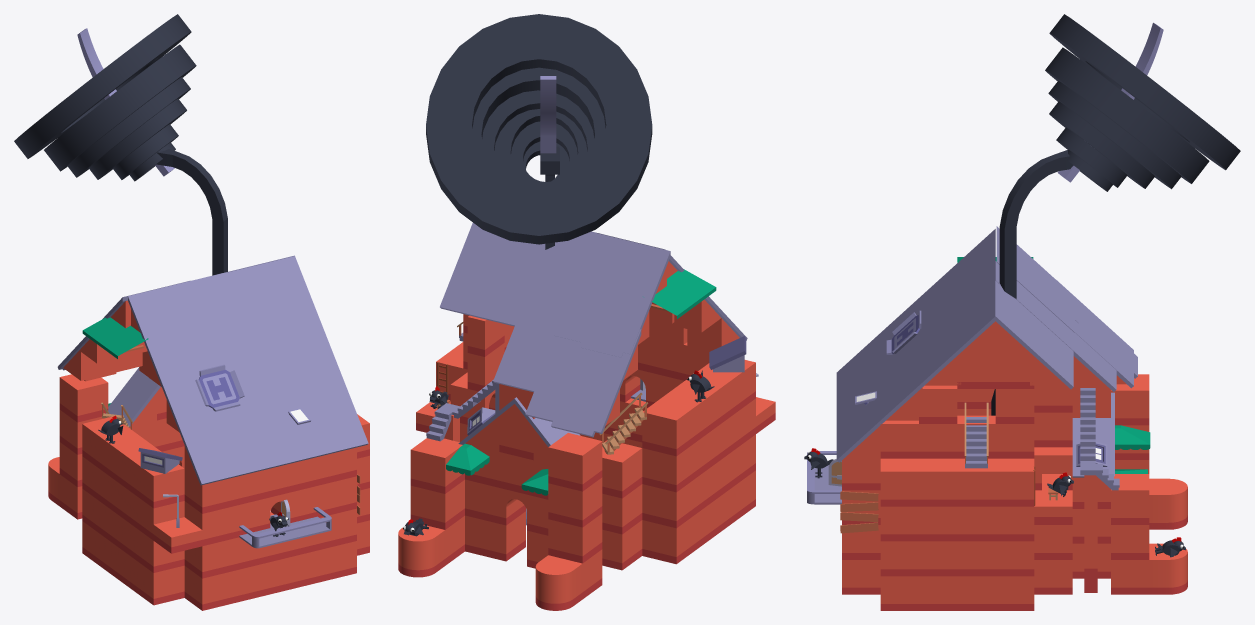
File: online-structure.glb
3 views of the same model, side by side, from view 1: azimuth 30°, elevation 25°; view 2: azimuth 150°, elevation 25°; view 3: azimuth 270°, elevation 25° (orthographic). The views are drawn at different scales.
Parts seen in each view (by area): view 1: mergedBlocks(Clone); view 2: mergedBlocks(Clone); view 3: mergedBlocks(Clone).
Part boxes in pixels (x1,y1,x2,y2): mergedBlocks(Clone): (14, 14, 369, 610); mergedBlocks(Clone): (398, 14, 775, 610); mergedBlocks(Clone): (804, 14, 1240, 610).
Size of the model in its own units: 7.53 by 15.07 by 11.36.
